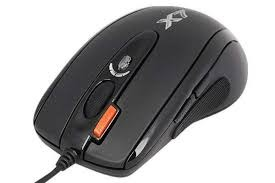mouse: (31, 1, 252, 178)
